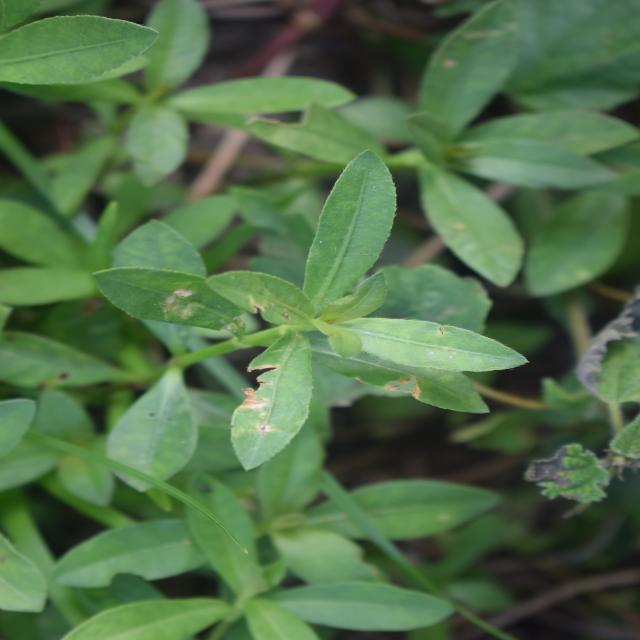Alligatorweed: (180, 140, 462, 480)
